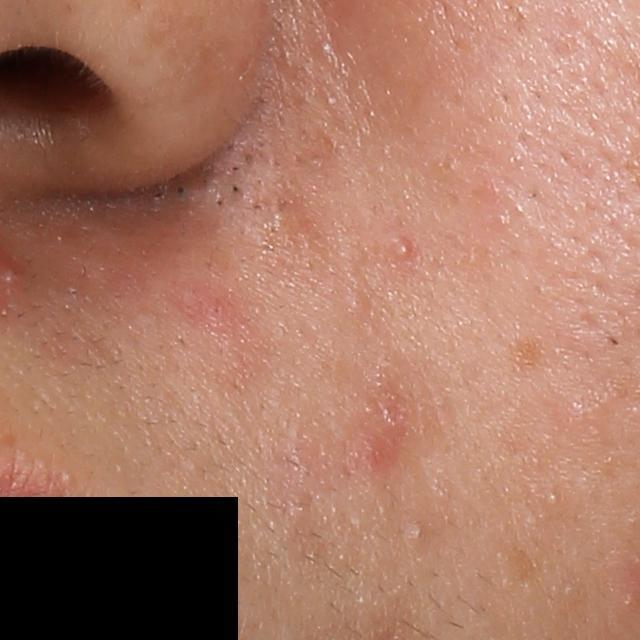comedo: (410, 521, 431, 545), (547, 488, 559, 506), (175, 183, 187, 197), (214, 199, 223, 208)
